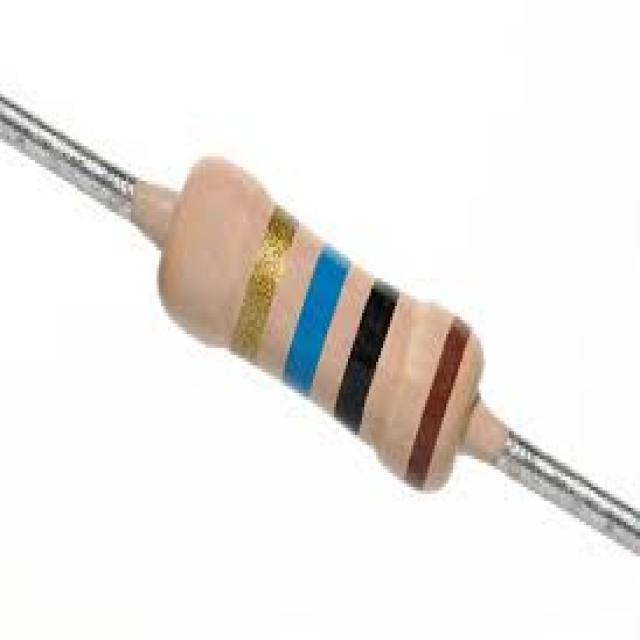Resistor: (159, 160, 481, 487)
black: (335, 279, 401, 434)
blue: (281, 244, 350, 403)
brown: (407, 317, 469, 490)
gold: (229, 206, 301, 368)
